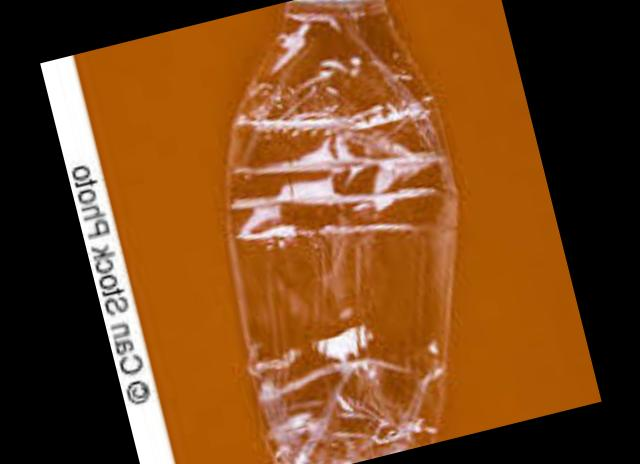plastic: (232, 0, 460, 464)
